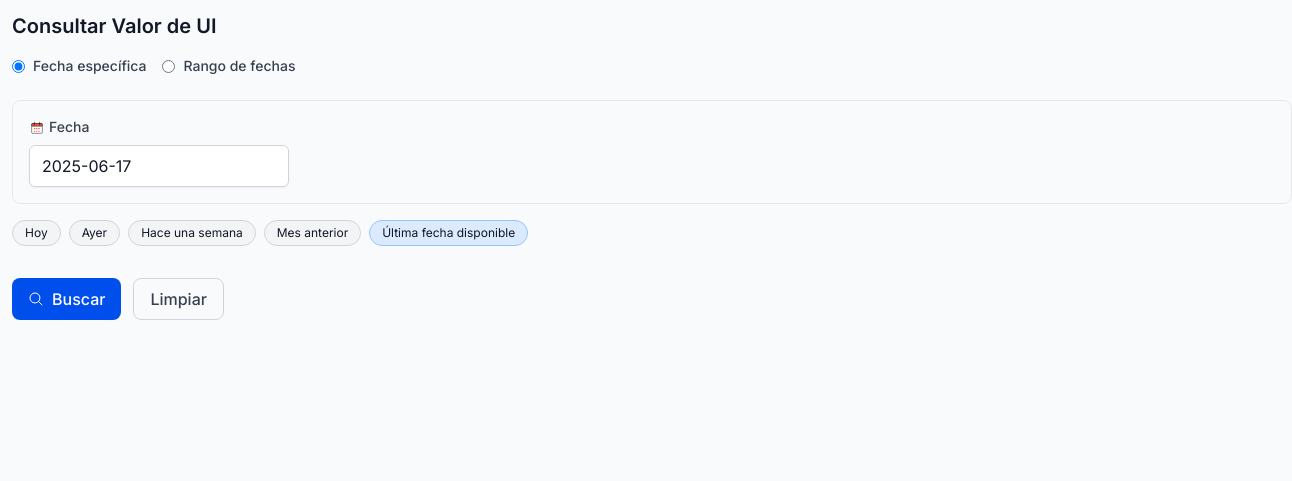
Test: SearchForm Component › should change search mode when clicking options
The width and height of the screenshot is (1292, 481).
Check: the text "Fecha específica" is shown, box [33,56,146,76]
Click the text "Rango de fechas" at (240, 66), box [184,56,296,76]
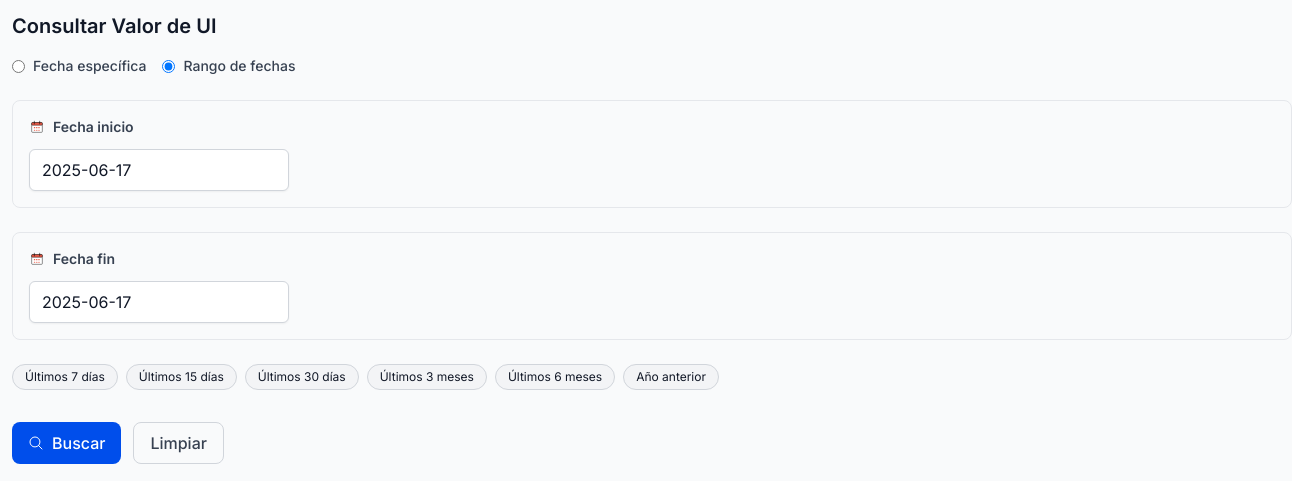
Check: the heading "Fecha inicio" is shown, box [29,118,134,135]
Check: the heading "Fecha fin" is shown, box [29,250,115,267]
